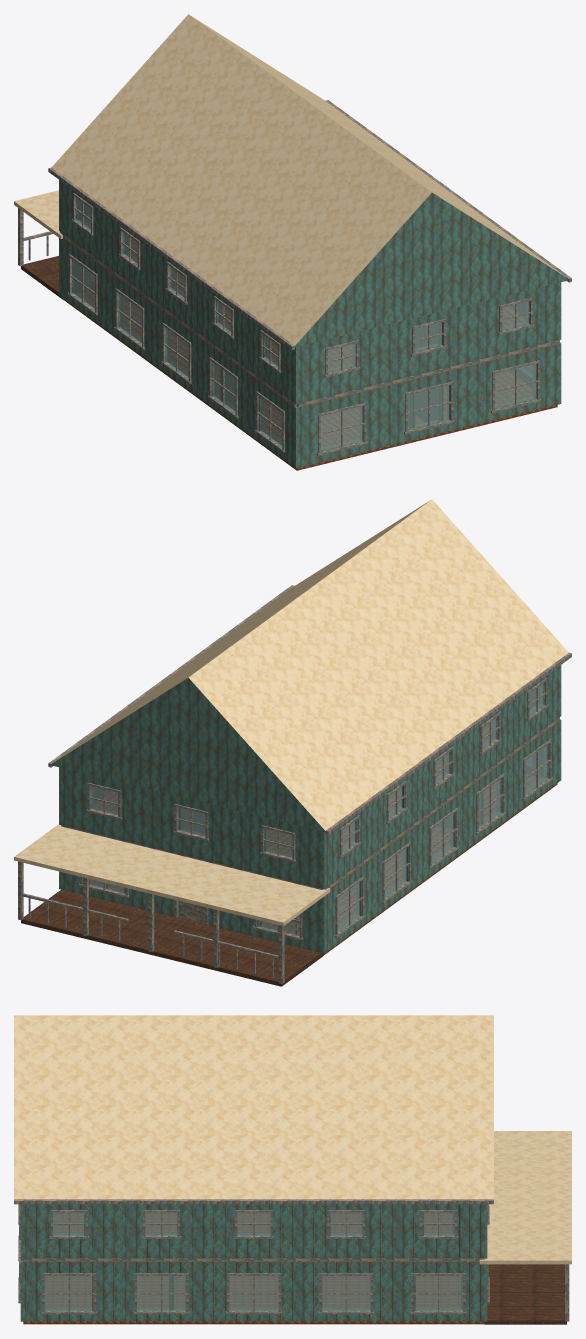
File: batten-general-store.gltf
The picture shows the model from 3 angles, top to bottom: view 1: azimuth 30°, elevation 25°; view 2: azimuth 150°, elevation 25°; view 3: azimuth 270°, elevation 25°; orthographic projection.
Visible parts, largest first — view 1: roof-L1-green-metal, exterior-L1-cream-siding, exterior-L0-cream-siding, roof-L1-cream-siding, glazing-L0-glass, trim-L0-dark-wood, floor-L0-floor, trim-L1-dark-wood, glazing-L1-glass, roof-L1-dark-wood, exterior-L0-dark-wood, interior-L0-interior (+4 smaller); view 2: roof-L1-green-metal, exterior-L1-cream-siding, roof-L1-cream-siding, exterior-L0-cream-siding, porch-L0-green-metal, porch-L0-stone, trim-L0-dark-wood, trim-L1-dark-wood, glazing-L0-glass, porch-L0-dark-wood, glazing-L1-glass, roof-L1-dark-wood (+3 smaller); view 3: roof-L1-green-metal, exterior-L1-cream-siding, exterior-L0-cream-siding, porch-L0-green-metal, floor-L0-floor, glazing-L0-glass, porch-L0-stone, trim-L0-dark-wood, glazing-L1-glass, roof-L1-dark-wood, trim-L1-dark-wood, floor-L1-floor (+1 smaller).
Boxes of the visible parts, left/top/right/bottom form: roof-L1-green-metal: left=51, top=14, right=566, bottom=345; exterior-L1-cream-siding: left=59, top=180, right=561, bottom=404; exterior-L0-cream-siding: left=59, top=238, right=561, bottom=468; roof-L1-cream-siding: left=295, top=192, right=568, bottom=346; glazing-L0-glass: left=73, top=260, right=536, bottom=450; trim-L0-dark-wood: left=67, top=254, right=541, bottom=455; floor-L0-floor: left=62, top=290, right=557, bottom=470; trim-L1-dark-wood: left=71, top=193, right=534, bottom=377; glazing-L1-glass: left=77, top=199, right=528, bottom=372; roof-L1-dark-wood: left=48, top=100, right=571, bottom=349; exterior-L0-dark-wood: left=60, top=232, right=559, bottom=407; interior-L0-interior: left=220, top=368, right=443, bottom=428; roof-L1-green-metal: left=53, top=499, right=568, bottom=830; exterior-L1-cream-siding: left=59, top=665, right=561, bottom=889; roof-L1-cream-siding: left=51, top=677, right=325, bottom=832; exterior-L0-cream-siding: left=59, top=719, right=561, bottom=953; porch-L0-green-metal: left=14, top=824, right=330, bottom=926; porch-L0-stone: left=21, top=889, right=323, bottom=986; trim-L0-dark-wood: left=79, top=739, right=552, bottom=940; trim-L1-dark-wood: left=86, top=678, right=548, bottom=862; glazing-L0-glass: left=90, top=745, right=546, bottom=935; porch-L0-dark-wood: left=18, top=861, right=299, bottom=983; glazing-L1-glass: left=91, top=684, right=542, bottom=857; roof-L1-dark-wood: left=48, top=585, right=571, bottom=835; roof-L1-green-metal: left=14, top=1015, right=493, bottom=1199; exterior-L1-cream-siding: left=20, top=1204, right=487, bottom=1258; exterior-L0-cream-siding: left=20, top=1261, right=487, bottom=1321; porch-L0-green-metal: left=479, top=1131, right=571, bottom=1264; floor-L0-floor: left=23, top=1276, right=484, bottom=1324; glazing-L0-glass: left=44, top=1276, right=463, bottom=1310; porch-L0-stone: left=484, top=1264, right=566, bottom=1324; trim-L0-dark-wood: left=18, top=1204, right=489, bottom=1314; glazing-L1-glass: left=53, top=1212, right=454, bottom=1234; roof-L1-dark-wood: left=14, top=1199, right=493, bottom=1204; trim-L1-dark-wood: left=18, top=1204, right=489, bottom=1238; floor-L1-floor: left=56, top=1213, right=451, bottom=1232.
Bounding box in the file's own units: 9.66 × 8.25 × 16.93.
9 materials, 8 textured.
